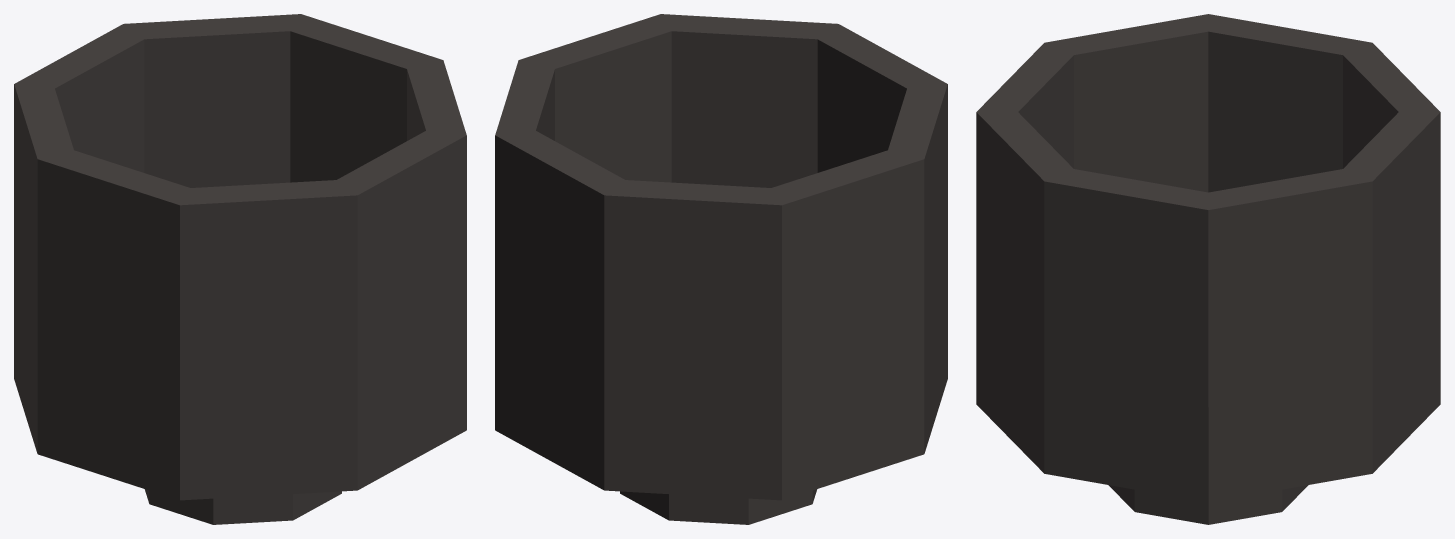
Rendered from SMG1_03_4.fbx.
The picture shows the model from 3 angles, left to right: view 1: azimuth 30°, elevation 25°; view 2: azimuth 150°, elevation 25°; view 3: azimuth 270°, elevation 25°; orthographic projection.
Parts seen in each view (by area): view 1: SMG1_03_4; view 2: SMG1_03_4; view 3: SMG1_03_4.
Boxes of the visible parts, bbox=[...] form: SMG1_03_4: bbox=[14, 14, 466, 524]; SMG1_03_4: bbox=[495, 14, 947, 524]; SMG1_03_4: bbox=[976, 14, 1440, 524].
Bounding box in the file's own units: 0.0125 × 0.0109 × 0.0125.
